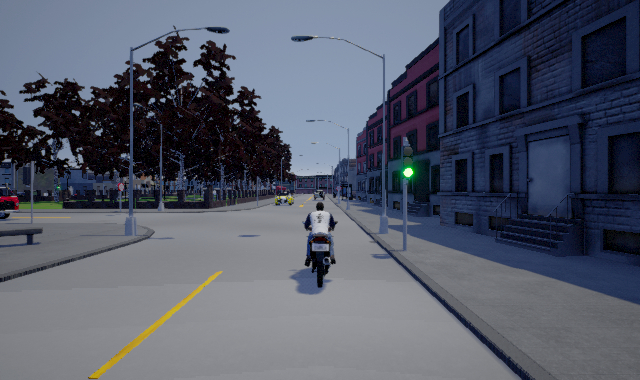motobike: (302, 202, 337, 288)
traffic_light: (401, 144, 415, 180)
traffic_sign: (116, 180, 125, 193), (334, 184, 343, 193)
vehicle: (1, 187, 20, 217), (274, 190, 293, 205), (312, 188, 325, 202)
